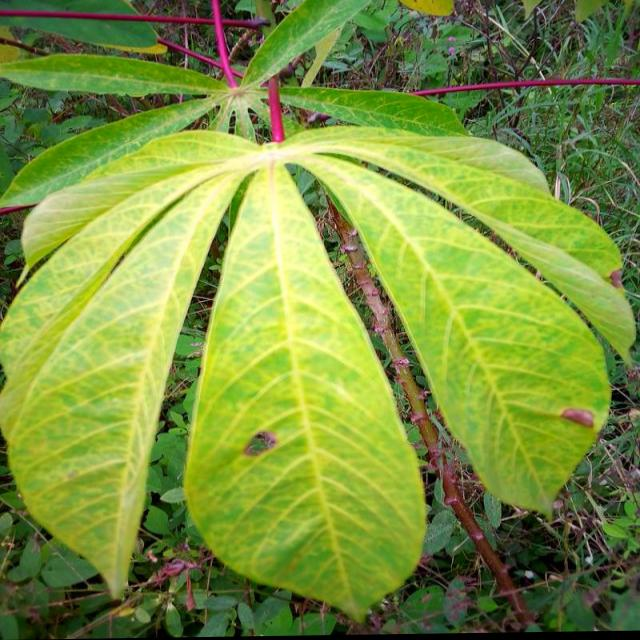Mosaico: (38, 148, 640, 603)
